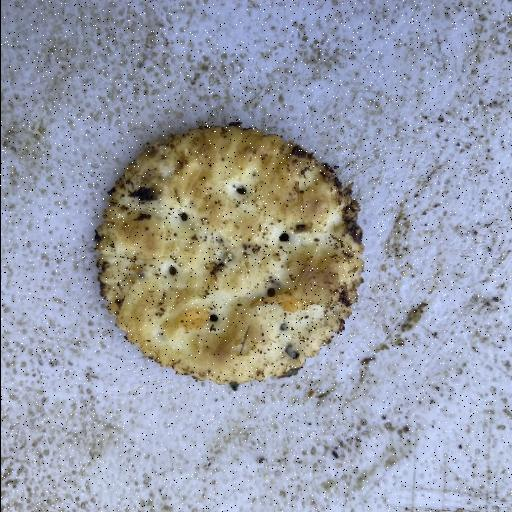Waste: (93, 122, 365, 387)
